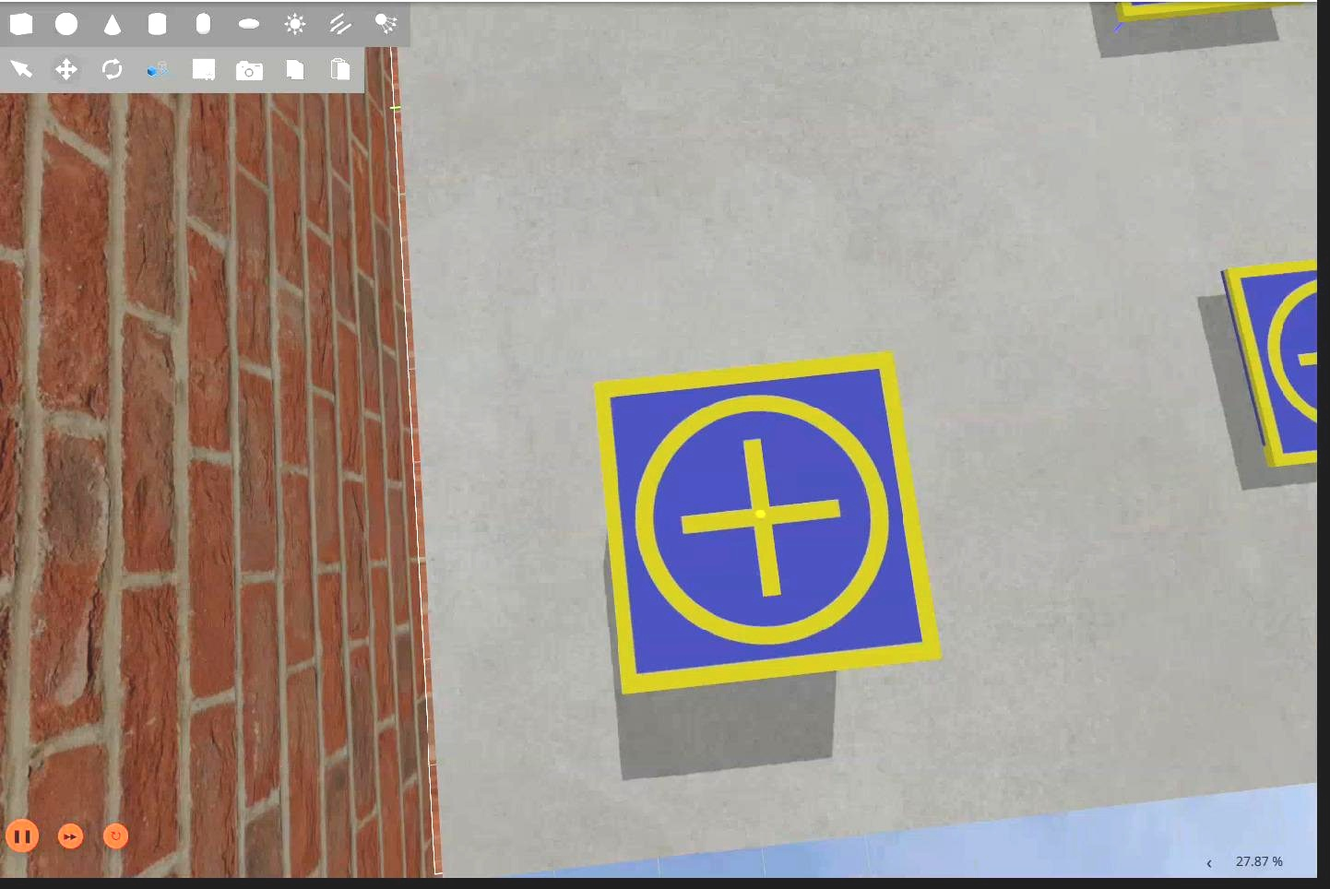small_base: (588, 356, 947, 702), (1220, 256, 1317, 476)
